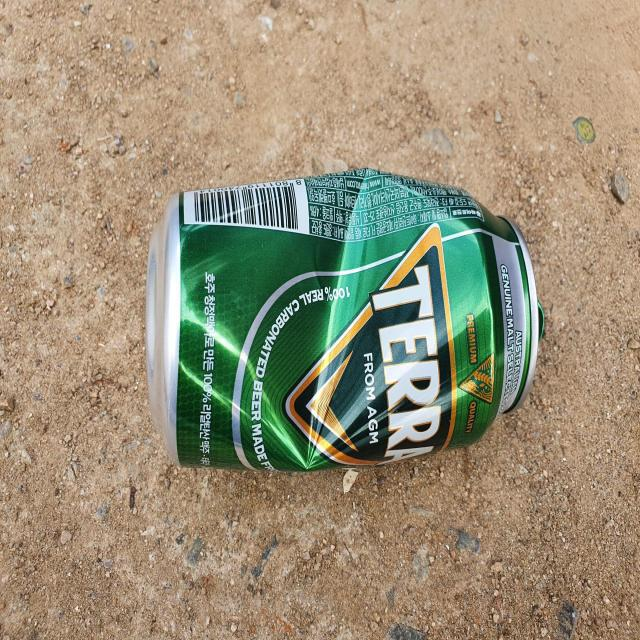can: (145, 168, 545, 471)
